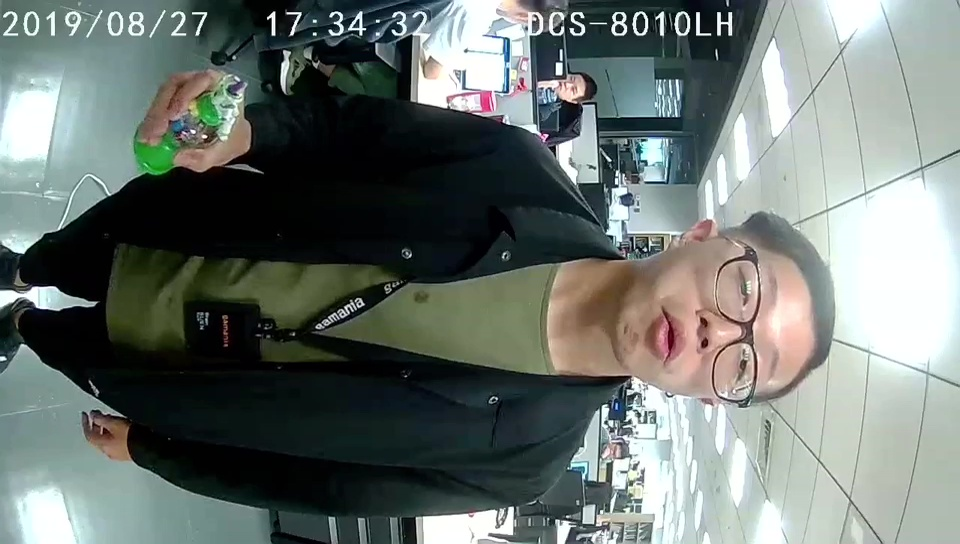buzz: (132, 72, 247, 175)
